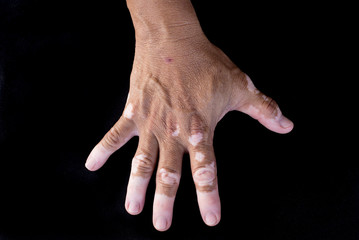vitiligo: (123, 85, 256, 220)
